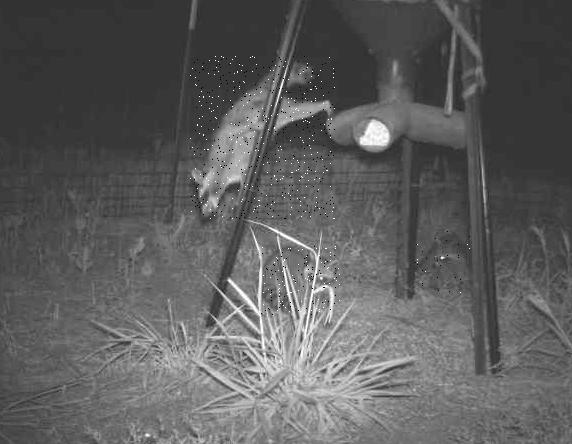Raccoon: (190, 56, 335, 219), (259, 246, 340, 315), (414, 230, 472, 294)
